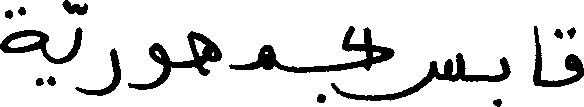X: (343, 21, 391, 105), (393, 45, 461, 104), (0, 2, 41, 90), (83, 0, 119, 100), (131, 38, 169, 94), (222, 40, 273, 74), (188, 26, 220, 80), (565, 22, 583, 89), (69, 0, 81, 97), (533, 21, 540, 90), (502, 52, 508, 85)
